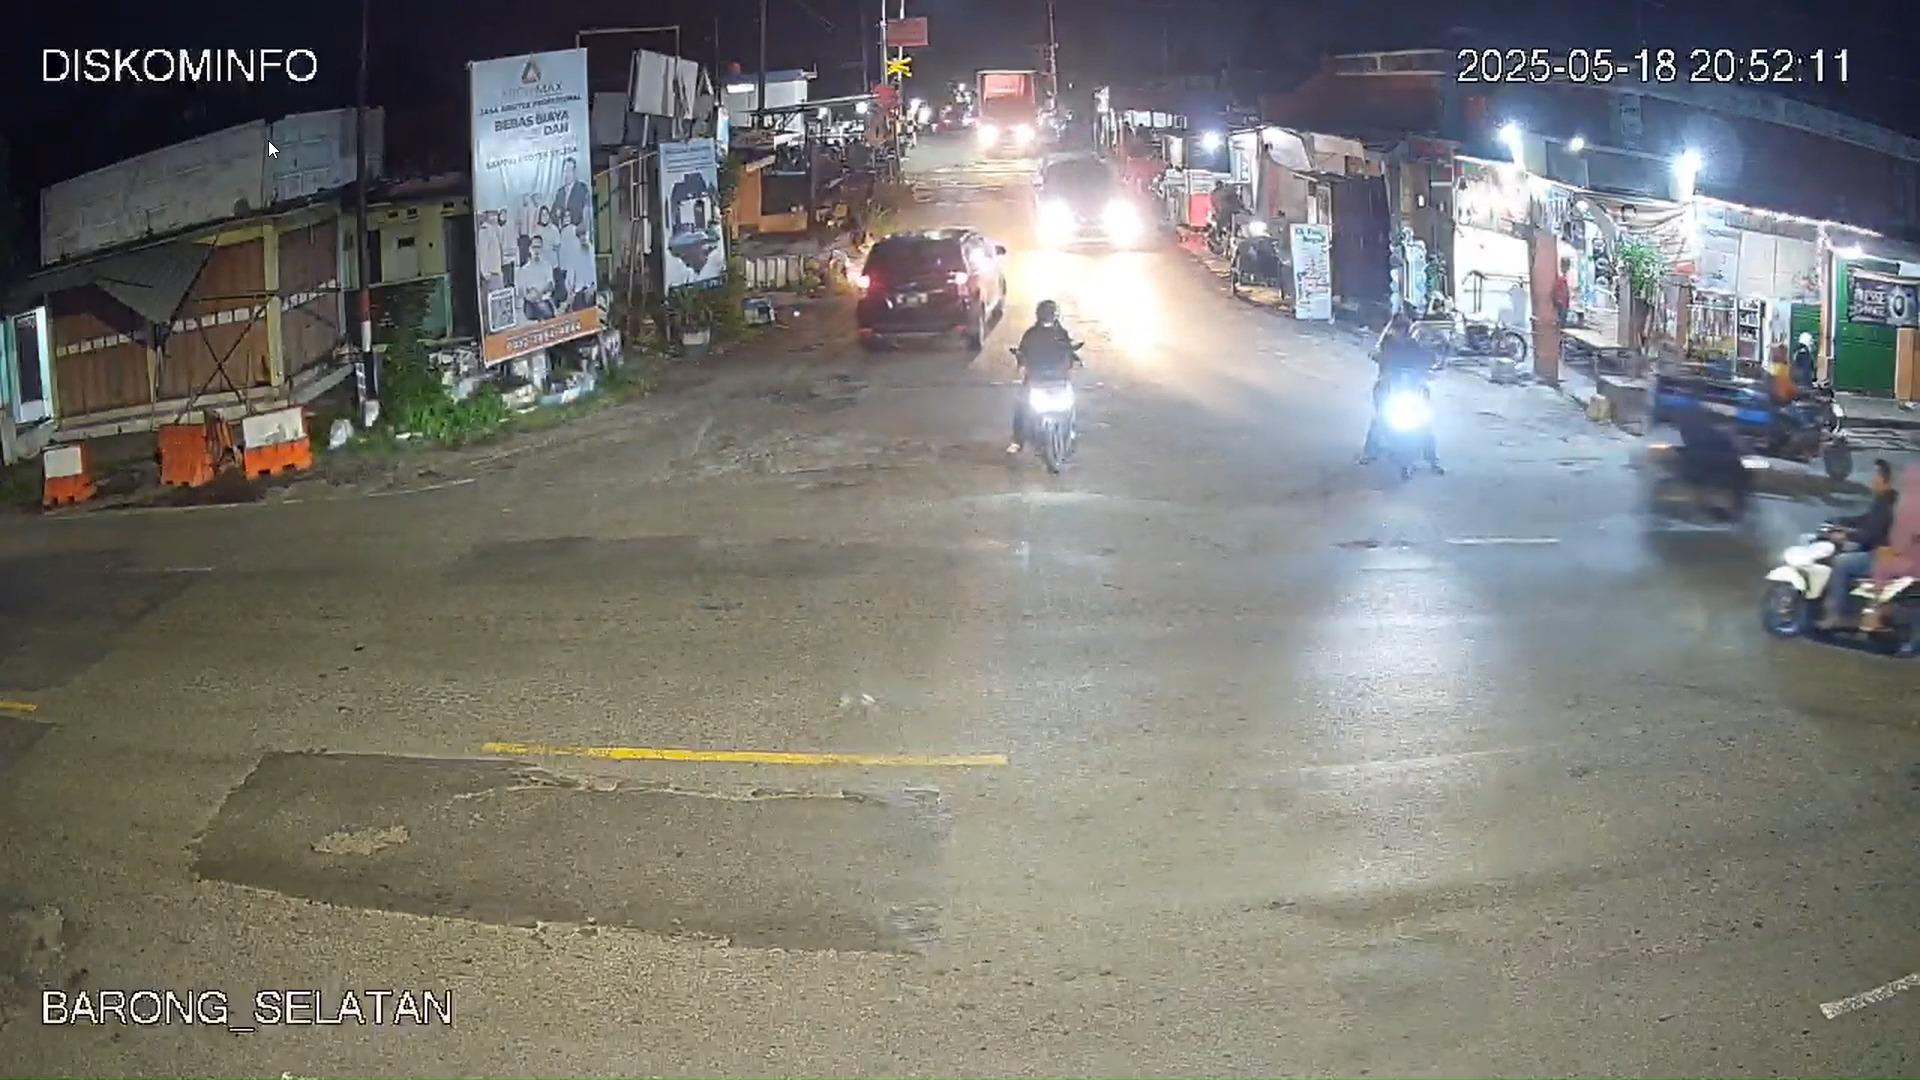Motor: (1638, 373, 1858, 530), (1353, 311, 1439, 476), (1007, 301, 1081, 463)
Truck: (973, 67, 1047, 157)
mobil: (852, 225, 992, 349), (1034, 152, 1130, 251), (938, 103, 975, 133)
